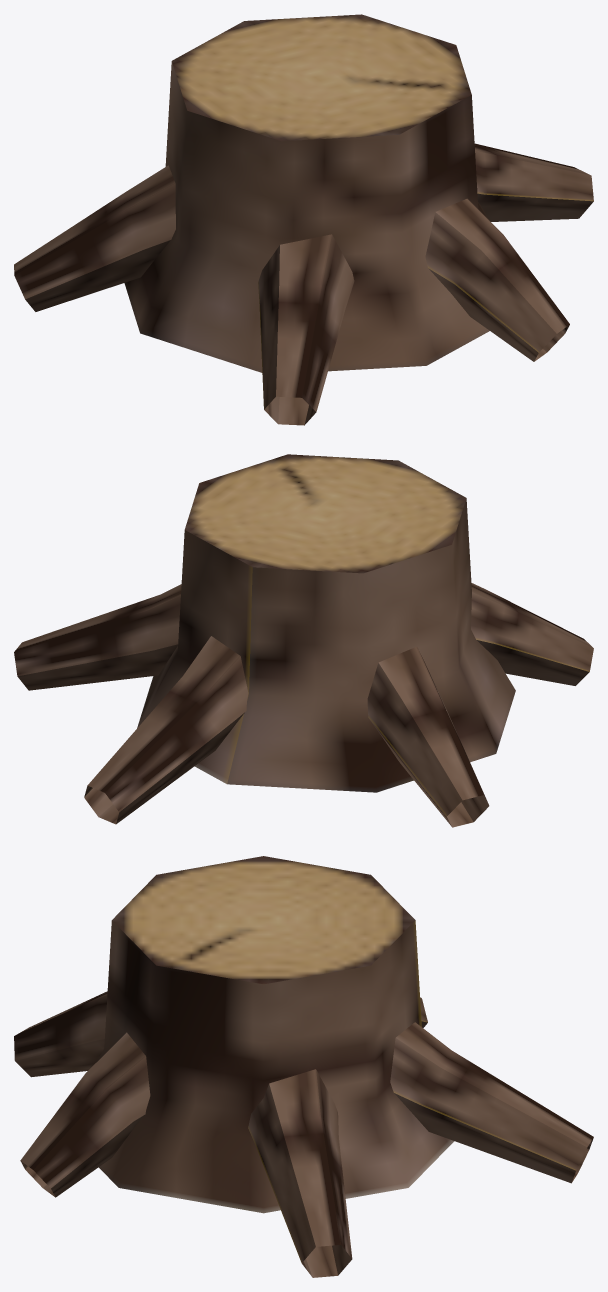
Rendered from stump.obj.
3 renders of one model, top to bottom at view 1: azimuth 30°, elevation 25°; view 2: azimuth 150°, elevation 25°; view 3: azimuth 270°, elevation 25°, orthographic. The views are drawn at different scales.
Parts seen in each view (by area): view 1: stump; view 2: stump; view 3: stump.
Part boxes in pixels (x1,y1,x2,y2): stump: [14, 14, 593, 425]; stump: [14, 454, 593, 827]; stump: [14, 856, 593, 1277].
Bounding box in the file's own units: 1.19 × 0.4861 × 1.15.
Materials: 1 (1 with a texture image).
